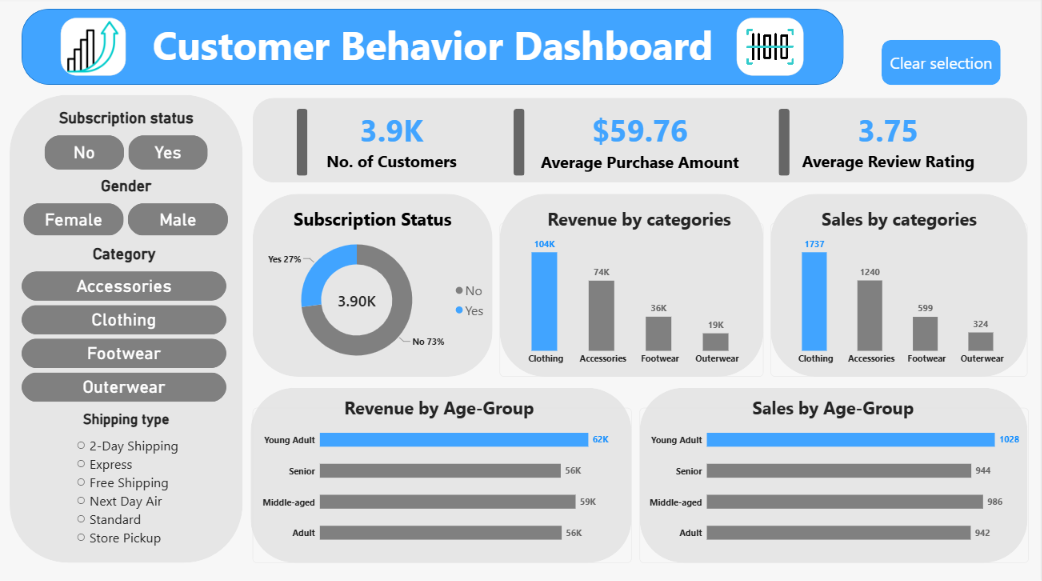

Layout of this report page (visuals, bound fields, positions):
{"tool":"powerbi","page":{"name":"Page 1","canvas":[1920,1080],"ordinal":0},"visuals":[{"type":"shape","box":[468.8,186.1,1426.1,156.1],"z":0},{"type":"cardVisual","fields":{"Data":["customer_behavior customer.No._of_customers","customer_behavior customer.Average Purchase Amount","customer_behavior customer.Average Review Rating"]},"box":[500.6,185.9,1365.7,156.4],"z":1000},{"type":"shape","box":[44.9,22.9,1513,139.8],"z":2000},{"type":"textbox","box":[285.3,38.7,1054.5,125.1],"z":3000},{"type":"shape","box":[469.2,362.1,441.7,336.8],"z":4000},{"type":"shape","box":[923.8,362.1,485.9,336.8],"z":5000},{"type":"shape","box":[1422.5,362.1,473,336.8],"z":6000},{"type":"donutChart","fields":{"Category":["customer_behavior customer.subscription_status"],"Y":["CountNonNull(customer_behavior customer.customer_id)"]},"box":[465.5,397.1,454.6,322.1],"z":7000},{"type":"textbox","box":[544.6,386.1,292.6,58.9],"z":8000},{"type":"clusteredColumnChart","fields":{"Category":["customer_behavior customer.category"],"Y":["Sum(customer_behavior customer.purchase_amount)"]},"box":[923.8,415.5,485.9,283.4],"z":9000},{"type":"textbox","box":[993.7,386.1,373.6,58.9],"z":10000},{"type":"clusteredColumnChart","fields":{"Category":["customer_behavior customer.category"],"Y":["CountNonNull(customer_behavior customer.customer_id)"]},"box":[1422.5,415.5,473,283.4],"z":11000},{"type":"textbox","box":[1472.2,386.4,373.6,58.9],"z":12000},{"type":"shape","box":[465.5,719.6,701.2,322.1],"z":13000},{"type":"shape","box":[1181.4,719.6,714.1,322.1],"z":14000},{"type":"shape","box":[21.9,180.3,428.8,861.4],"z":15000},{"type":"clusteredBarChart","fields":{"Category":["customer_behavior customer.age_group"],"Y":["Sum(customer_behavior customer.purchase_amount)"]},"box":[469.2,756.4,697.5,285.3],"z":16000},{"type":"clusteredBarChart","fields":{"Category":["customer_behavior customer.age_group"],"Y":["CountNonNull(customer_behavior customer.customer_id)"]},"box":[1181.4,756.4,716,285.3],"z":17000},{"type":"textbox","box":[1350.8,734.3,373.6,58.9],"z":18000},{"type":"textbox","box":[625.6,734.3,373.6,58.9],"z":19000},{"type":"advancedSlicerVisual","title":"Subscription status","fields":{"Values":["customer_behavior customer.subscription_status"]},"box":[86.6,206.5,300.5,112.7],"z":20000},{"type":"advancedSlicerVisual","title":"Gender","fields":{"Values":["customer_behavior customer.gender"]},"box":[47,331.7,377.7,108.5],"z":21000},{"type":"advancedSlicerVisual","title":"Category","fields":{"Values":["customer_behavior customer.category"]},"box":[44.9,457,377.7,290.1],"z":22000},{"type":"listSlicer","title":"Shipping type","fields":{"Values":["customer_behavior customer.shipping_type"]},"box":[47,747,377.7,279.7],"z":23000},{"type":"actionButton","box":[1626.8,79.2,219.1,83.5],"z":24000},{"type":"shape","box":[550.3,206.1,20.2,123.3],"z":25000},{"type":"shape","box":[1437.4,206.1,20.2,123.3],"z":26000},{"type":"shape","box":[949.7,206.1,20.2,123.3],"z":27000},{"type":"image","box":[116,38.7,119.6,106.7],"z":27001},{"type":"image","box":[1360.1,38.7,123.3,106.7],"z":27002}]}

Visuals, with their boxes in screenshot pixels (x1, y1, x2, y2), scaled from the page's 1920x1080 canvas onto the 1042x581 screenshot:
shape: region(254, 100, 1028, 184)
cardVisual - customer_behavior customer.No._of_customers x customer_behavior customer.Average Purchase Amount: region(272, 100, 1013, 184)
shape: region(24, 12, 845, 88)
textbox: region(155, 21, 727, 88)
shape: region(255, 195, 494, 376)
shape: region(501, 195, 765, 376)
shape: region(772, 195, 1029, 376)
donutChart - customer_behavior customer.subscription_status x CountNonNull(customer_behavior customer.customer_id): region(253, 214, 499, 387)
textbox: region(296, 208, 454, 239)
clusteredColumnChart - customer_behavior customer.category x Sum(customer_behavior customer.purchase_amount): region(501, 224, 765, 376)
textbox: region(539, 208, 742, 239)
clusteredColumnChart - customer_behavior customer.category x CountNonNull(customer_behavior customer.customer_id): region(772, 224, 1029, 376)
textbox: region(799, 208, 1002, 240)
shape: region(253, 387, 633, 560)
shape: region(641, 387, 1029, 560)
shape: region(12, 97, 245, 560)
clusteredBarChart - customer_behavior customer.age_group x Sum(customer_behavior customer.purchase_amount): region(255, 407, 633, 560)
clusteredBarChart - customer_behavior customer.age_group x CountNonNull(customer_behavior customer.customer_id): region(641, 407, 1030, 560)
textbox: region(733, 395, 936, 427)
textbox: region(340, 395, 542, 427)
"Subscription status" advancedSlicerVisual: region(47, 111, 210, 172)
"Gender" advancedSlicerVisual: region(26, 178, 230, 237)
"Category" advancedSlicerVisual: region(24, 246, 229, 402)
"Shipping type" listSlicer: region(26, 402, 230, 552)
actionButton: region(883, 43, 1002, 88)
shape: region(299, 111, 310, 177)
shape: region(780, 111, 791, 177)
shape: region(515, 111, 526, 177)
image: region(63, 21, 128, 78)
image: region(738, 21, 805, 78)
